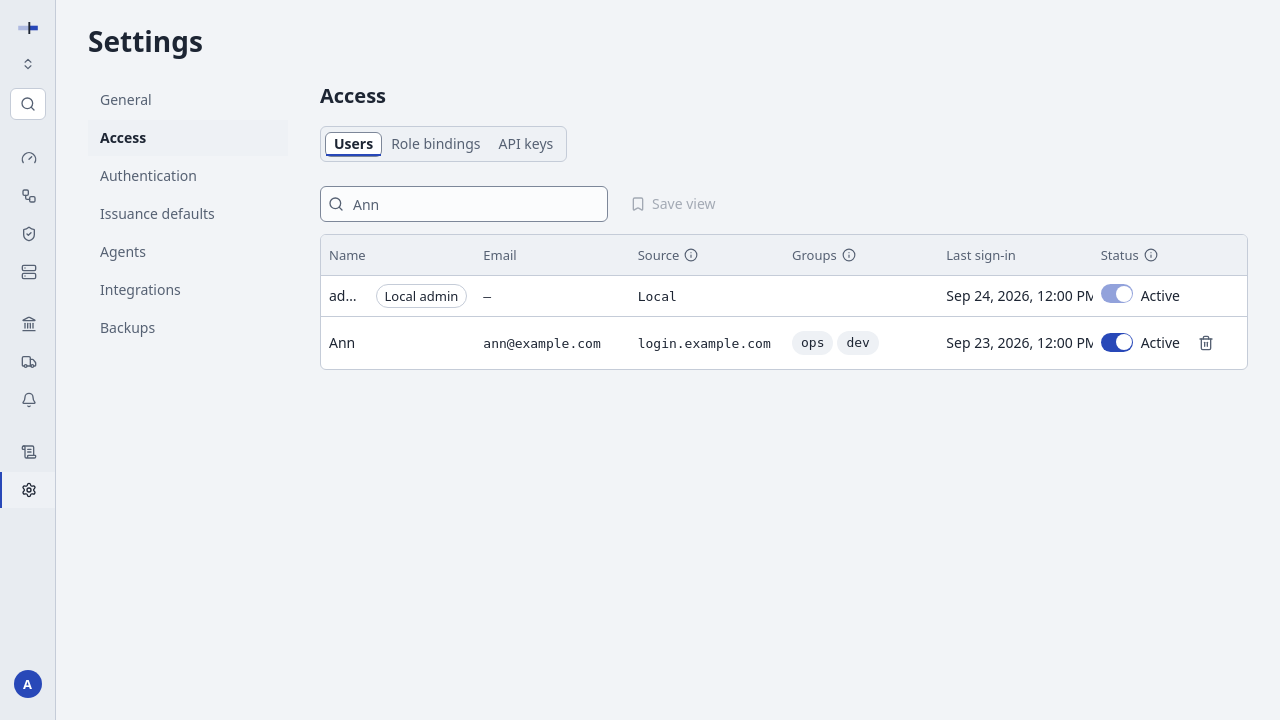
Test case: lists users and disables one after typing their name
This screenshot has width=1280, height=720.
Expected: the text "Local admin" is shown, x1=376 y1=284 x2=467 y2=308
Expected: the text "login.example.com" is shown, x1=638 y1=336 x2=771 y2=350
Click the switch named "Ann active" at [1117, 342], box x1=1101 y1=333 x2=1133 y2=352
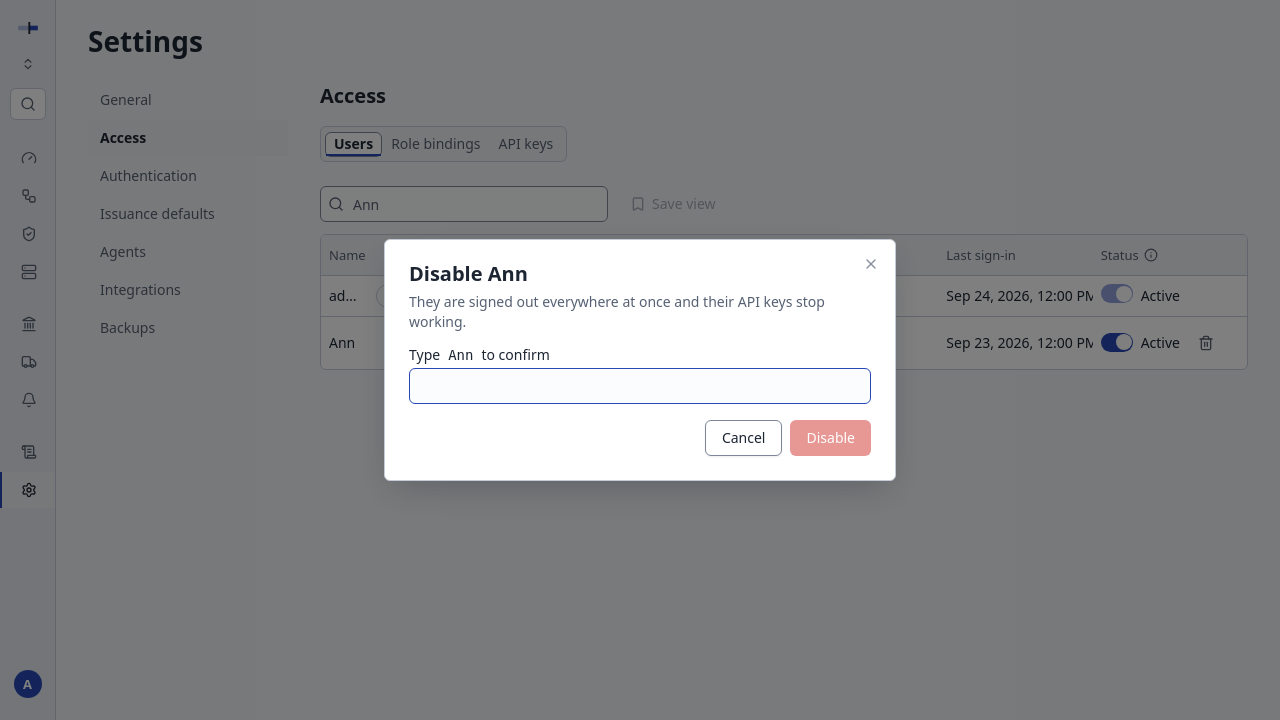
Type "Ann" into the field at [640, 386], box x1=409 y1=368 x2=871 y2=404
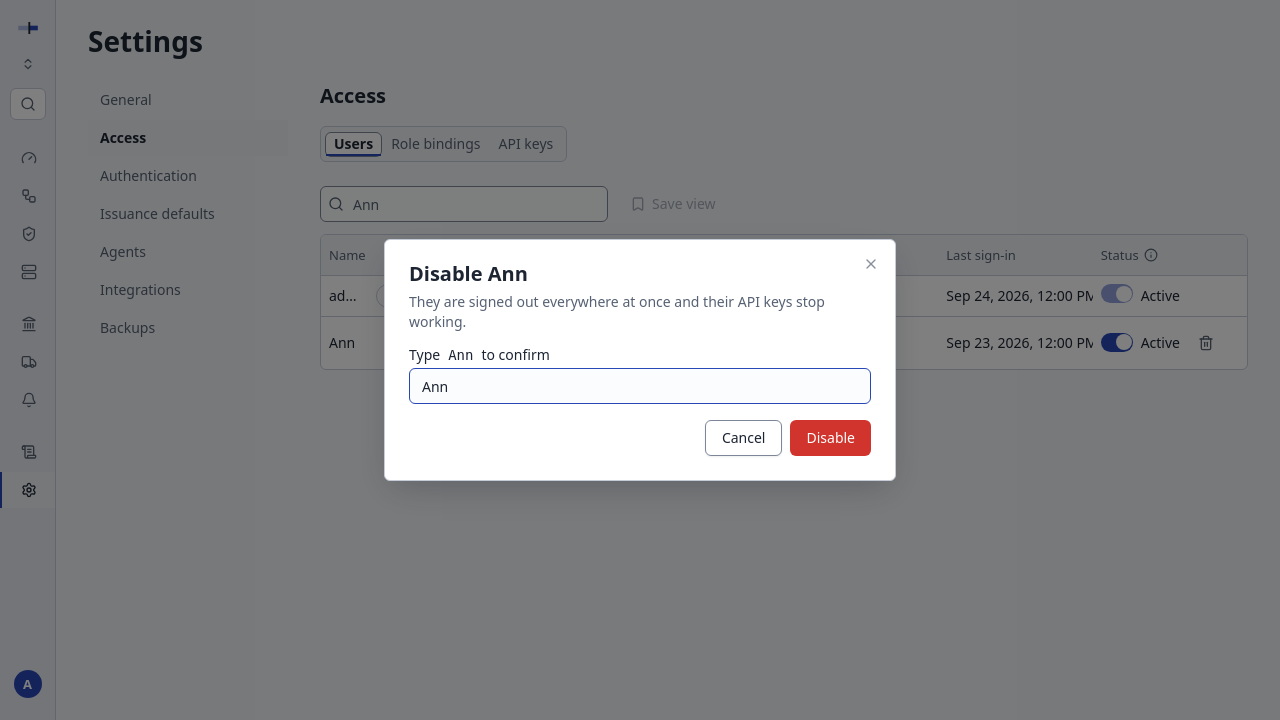
Click the button "Disable" at [831, 438], box x1=790 y1=420 x2=871 y2=456
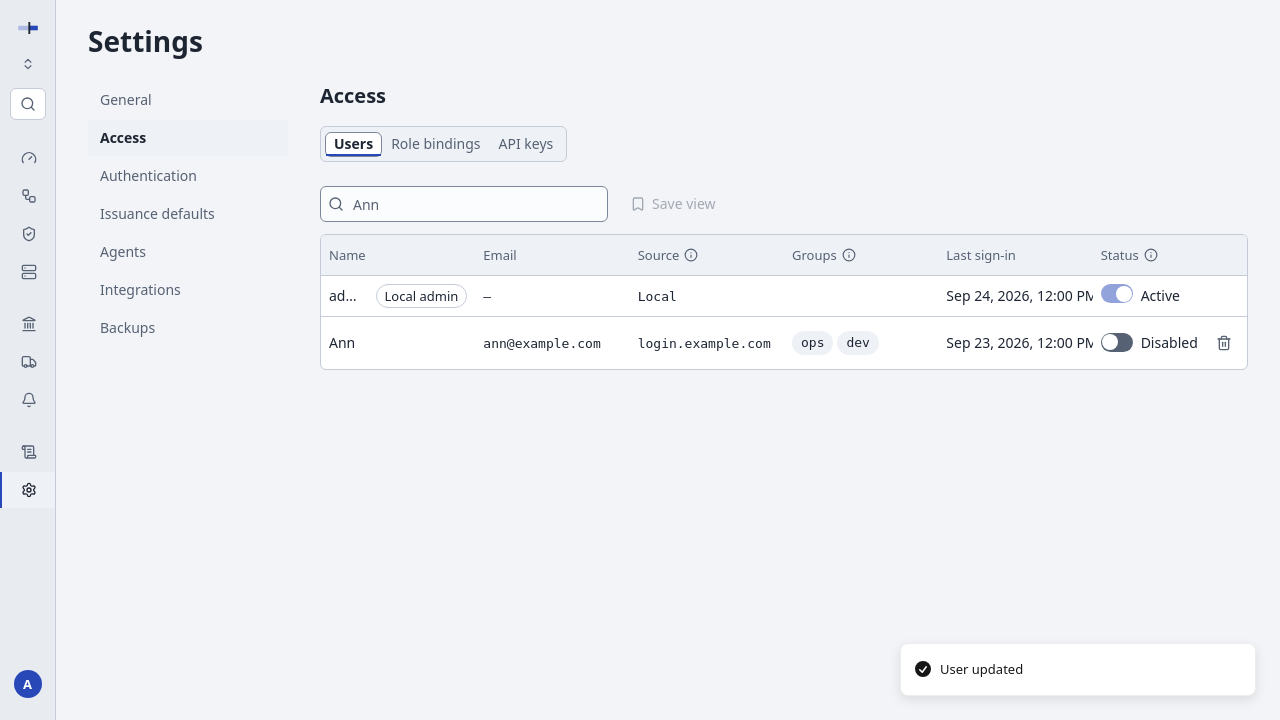
Expected: the text "Disabled" is shown, x1=1141 y1=332 x2=1198 y2=352
